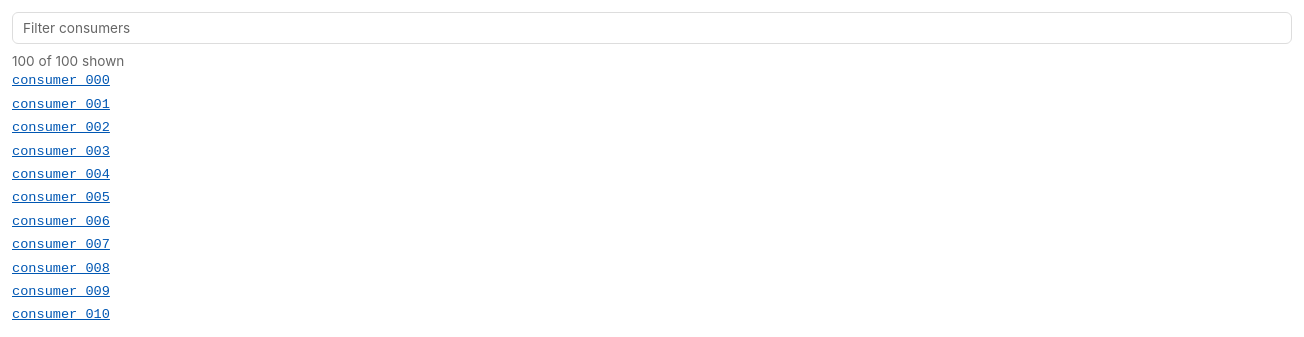
Test: a long list says how many are shown and filters by name
Type "dotfiles" into the search field labelled "Filter consumers" at coordinates (652, 28), box left=12, top=12, right=1292, bottom=44
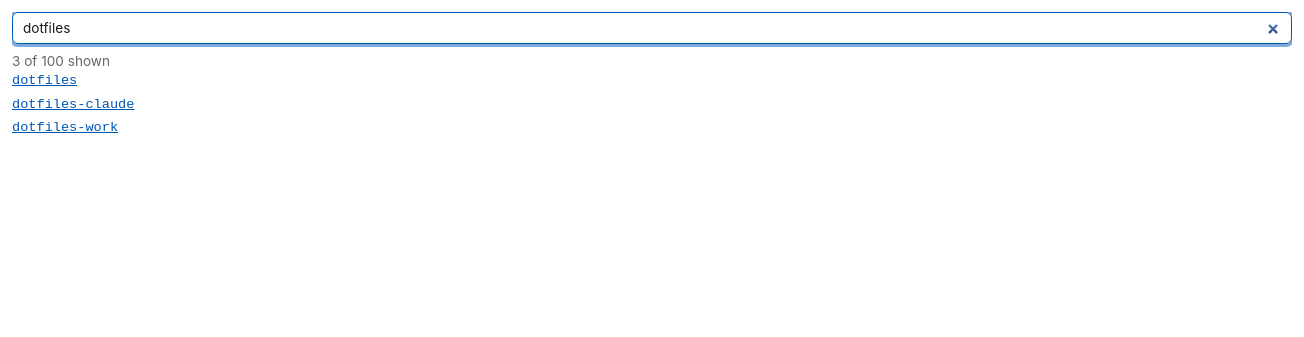
Expected: the message reads "3 of 100 shown", left=12, top=53, right=110, bottom=69
